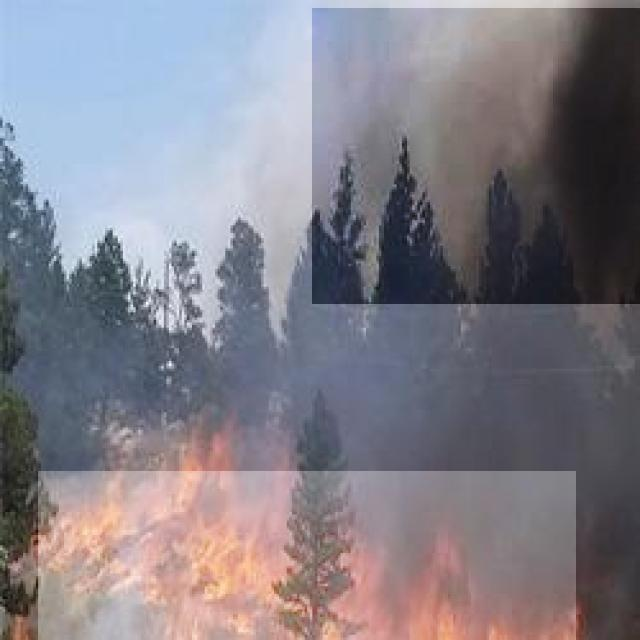Fire: (39, 471, 576, 640)
Smoke: (312, 8, 640, 304)
